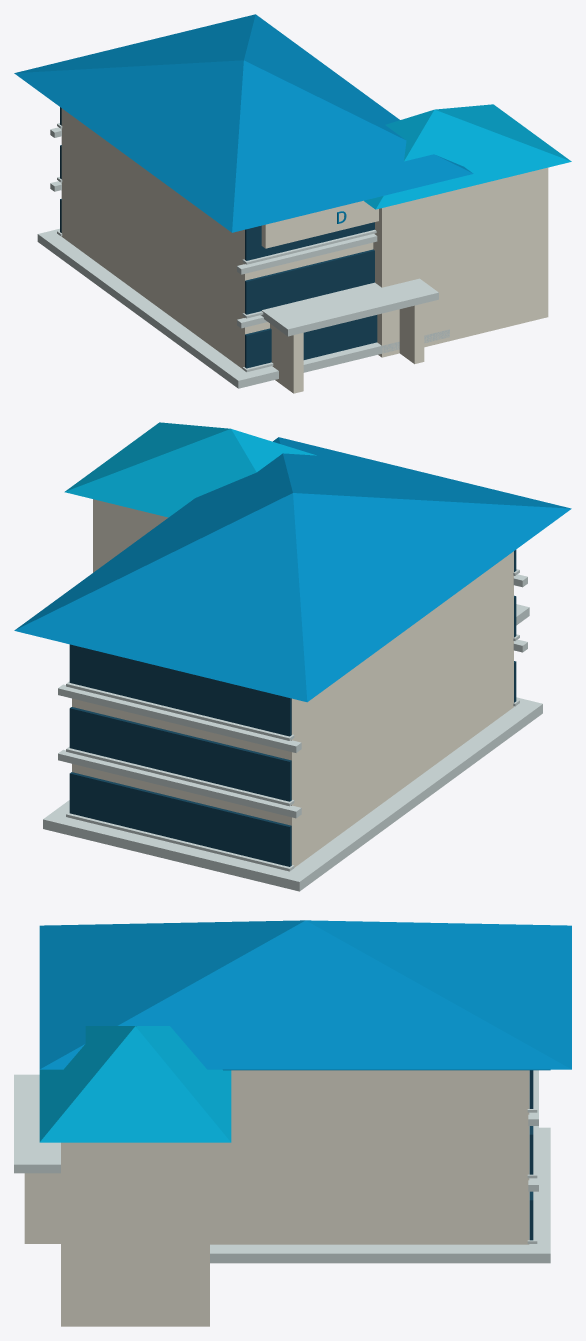
File: umc.glb
The picture shows the model from 3 angles, top to bottom: view 1: azimuth 30°, elevation 25°; view 2: azimuth 150°, elevation 25°; view 3: azimuth 270°, elevation 25°; orthographic projection. The views are drawn at different scales.
Visible parts, largest first — view 1: UMC_blue, UMC_ivory, UMC_Extension_ivory, UMC_trim, UMC_Extension_roof, UMC_glass; view 2: UMC_blue, UMC_ivory, UMC_glass, UMC_trim, UMC_Extension_roof, UMC_Extension_ivory; view 3: UMC_blue, UMC_ivory, UMC_Extension_ivory, UMC_Extension_roof, UMC_trim, UMC_glass.
Boxes of the visible parts, x1,y1,x2,y2 form: UMC_blue: [14, 14, 473, 232]; UMC_ivory: [61, 108, 424, 393]; UMC_Extension_ivory: [373, 167, 548, 357]; UMC_trim: [37, 123, 449, 388]; UMC_Extension_roof: [364, 104, 571, 209]; UMC_glass: [60, 107, 377, 368]; UMC_blue: [14, 437, 571, 702]; UMC_ivory: [72, 551, 513, 867]; UMC_glass: [69, 550, 516, 866]; UMC_trim: [43, 569, 542, 891]; UMC_Extension_roof: [64, 422, 316, 517]; UMC_Extension_ivory: [93, 499, 168, 572]; UMC_blue: [39, 920, 571, 1070]; UMC_ivory: [24, 1070, 529, 1244]; UMC_Extension_ivory: [61, 1142, 209, 1326]; UMC_Extension_roof: [39, 1026, 231, 1142]; UMC_trim: [14, 1070, 550, 1263]; UMC_glass: [529, 1070, 533, 1240].
Size of the model in its own units: 22.5 by 14.75 by 26.2.
